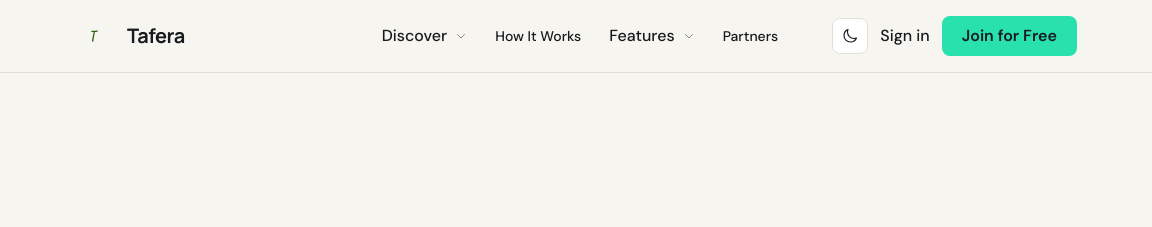
Test: Header unauthenticated state › displays Discover dropdown when clicked
Click the button "Discover" at [424, 36], box [366,16,483,56]
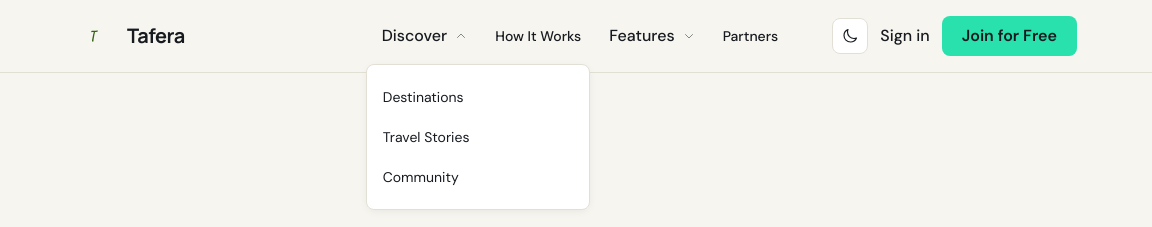
expect the link "Destinations" is shown: met, box [383,88,464,106]
